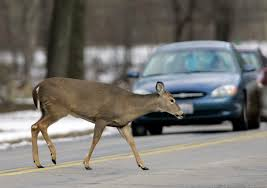deer: (25, 77, 184, 170)
